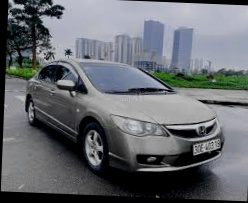Bien-so: (192, 138, 220, 158)
